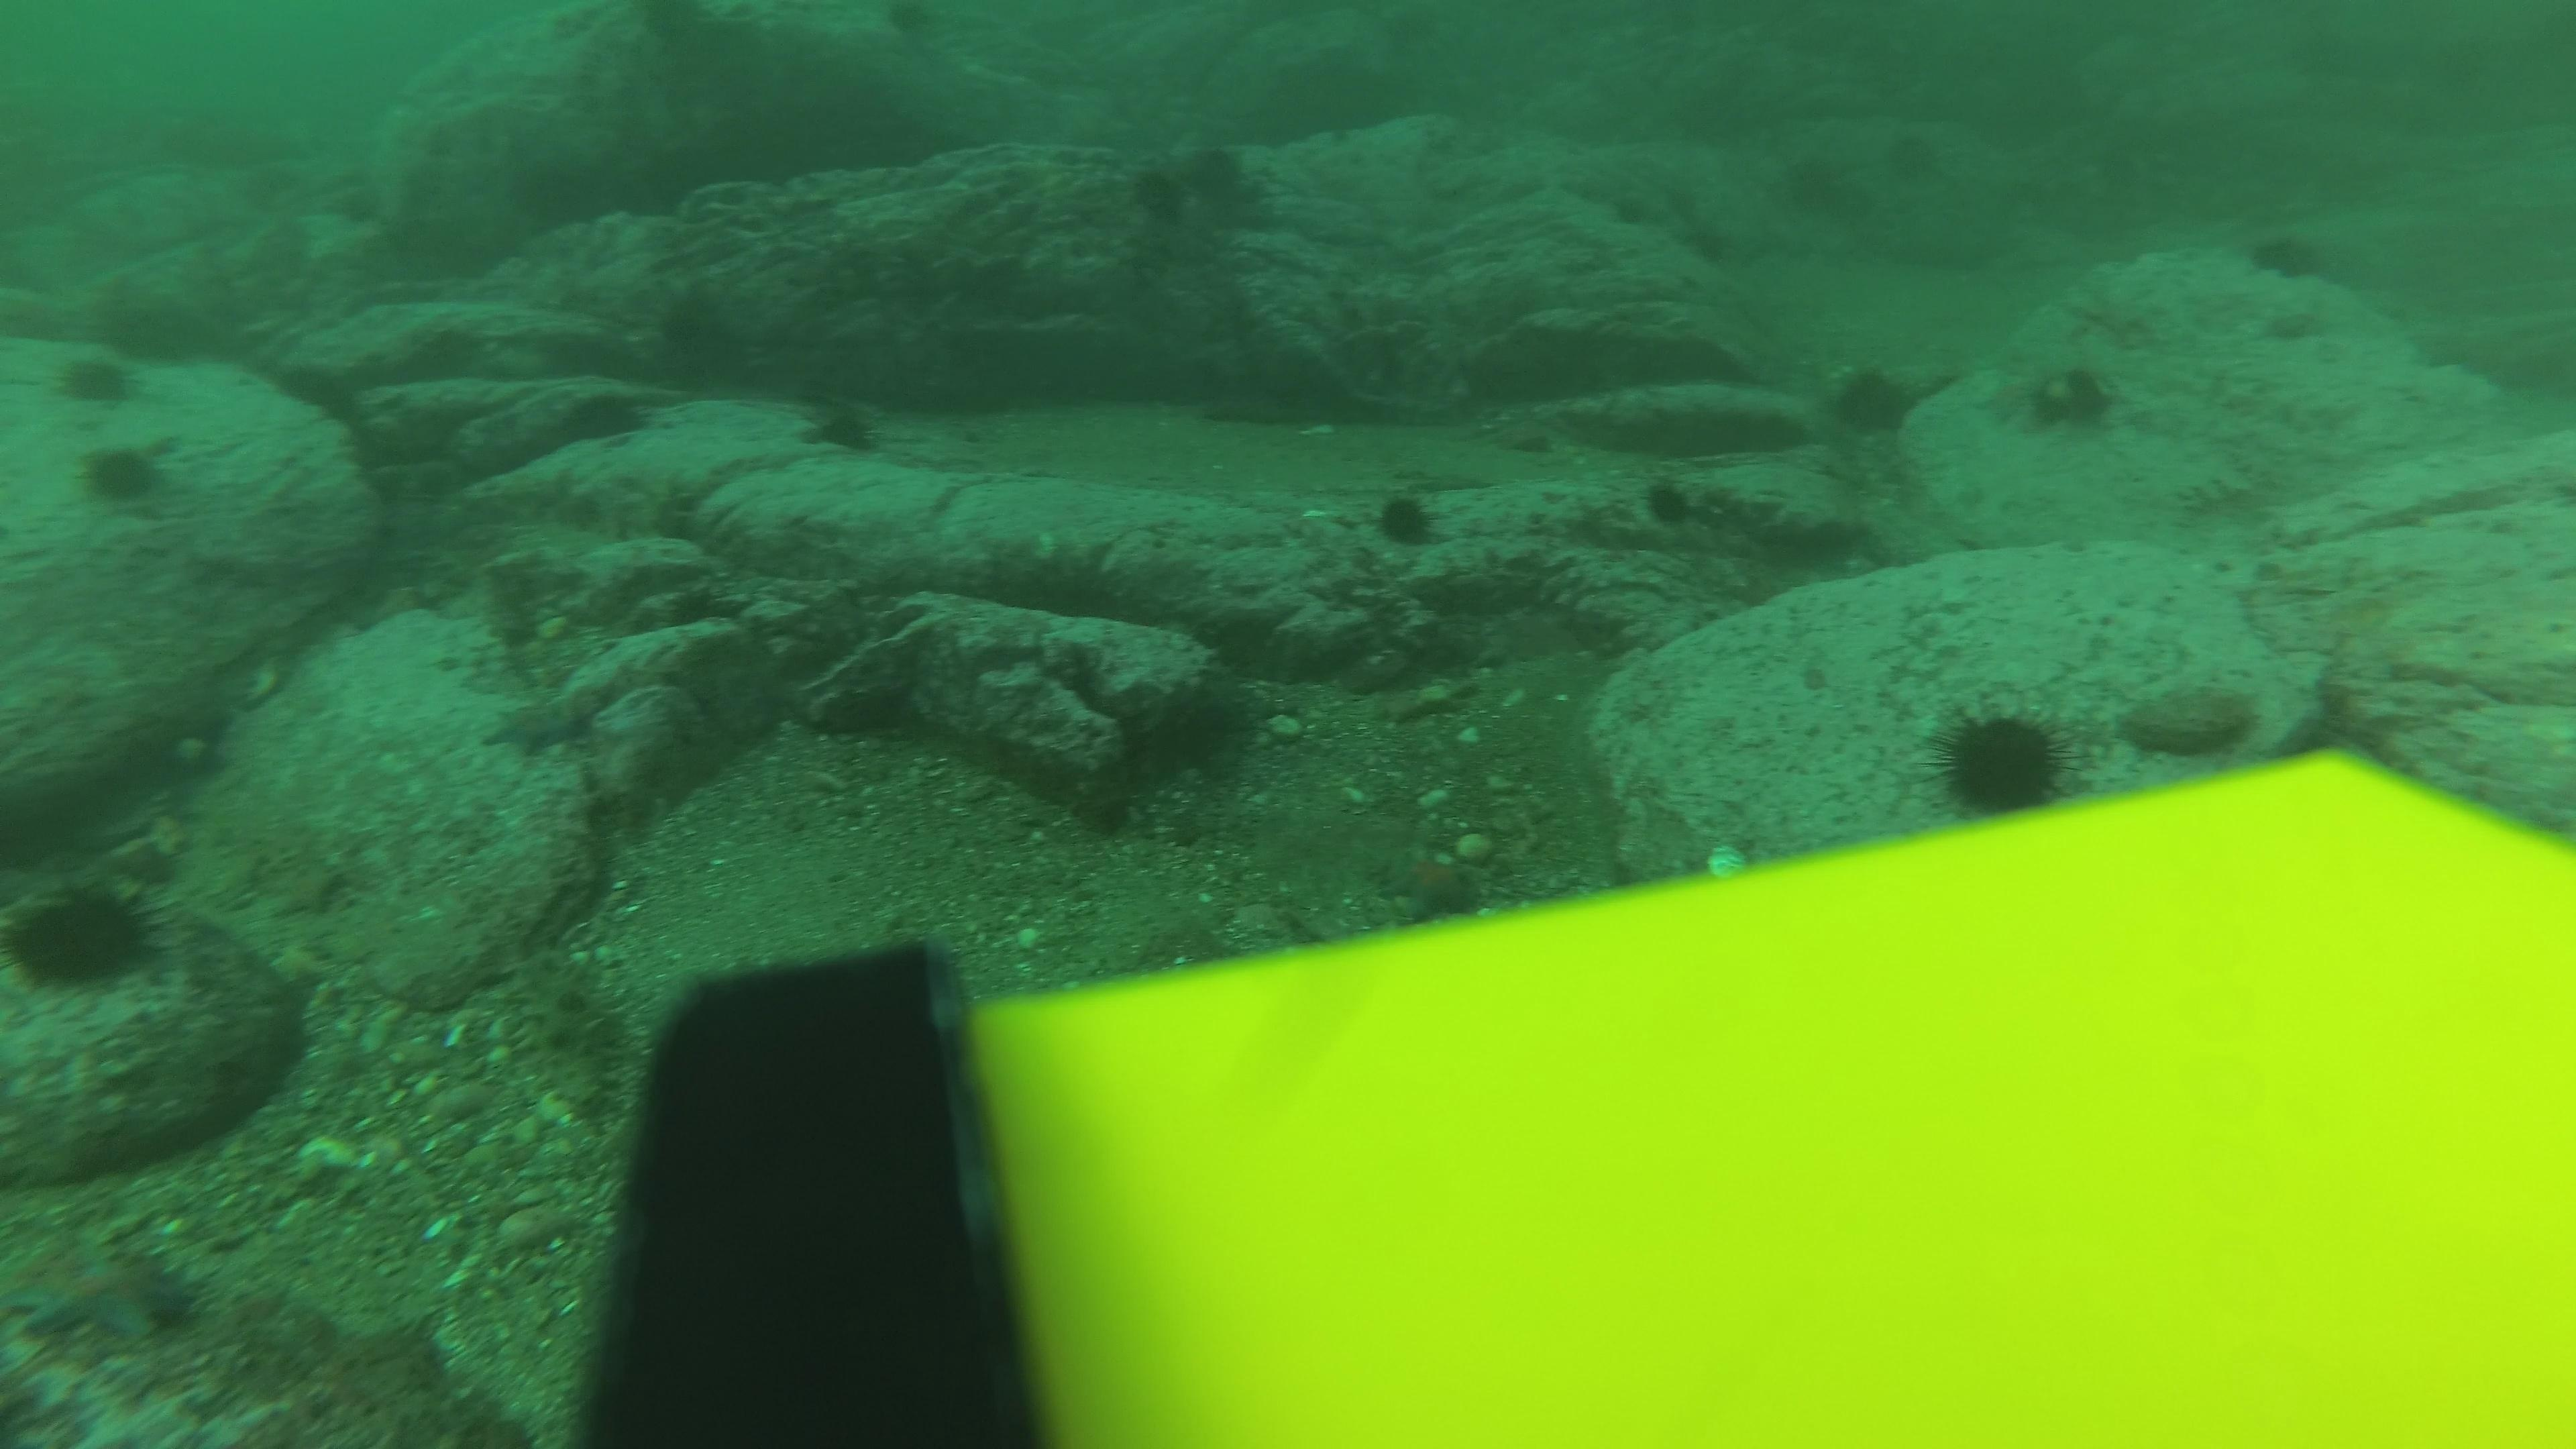echinus: (4, 874, 165, 996), (1927, 699, 2081, 819), (2013, 356, 2125, 442), (1822, 357, 1921, 441), (73, 435, 175, 515), (48, 341, 147, 414), (796, 391, 888, 460), (2240, 219, 2332, 288), (1366, 485, 1445, 554), (1882, 133, 1939, 186), (1647, 478, 1704, 529), (1189, 147, 1246, 198), (1127, 168, 1182, 219), (1690, 230, 1732, 260), (1606, 196, 1649, 225), (1661, 189, 1704, 218)
holothurian: (494, 938, 642, 1168)
starfish: (5, 1240, 203, 1352), (1373, 847, 1499, 922), (481, 694, 598, 759)
